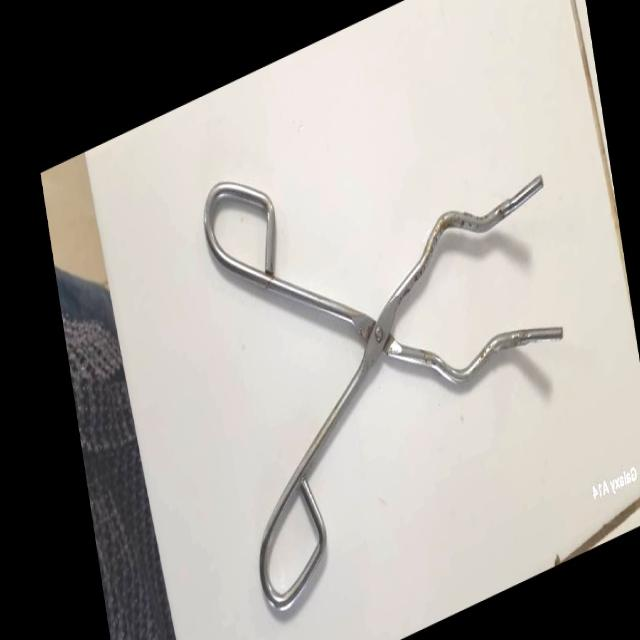Tongue: (180, 29, 603, 640)
